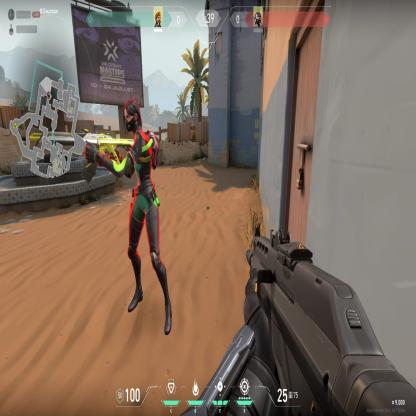enemy: (83, 92, 175, 340)
